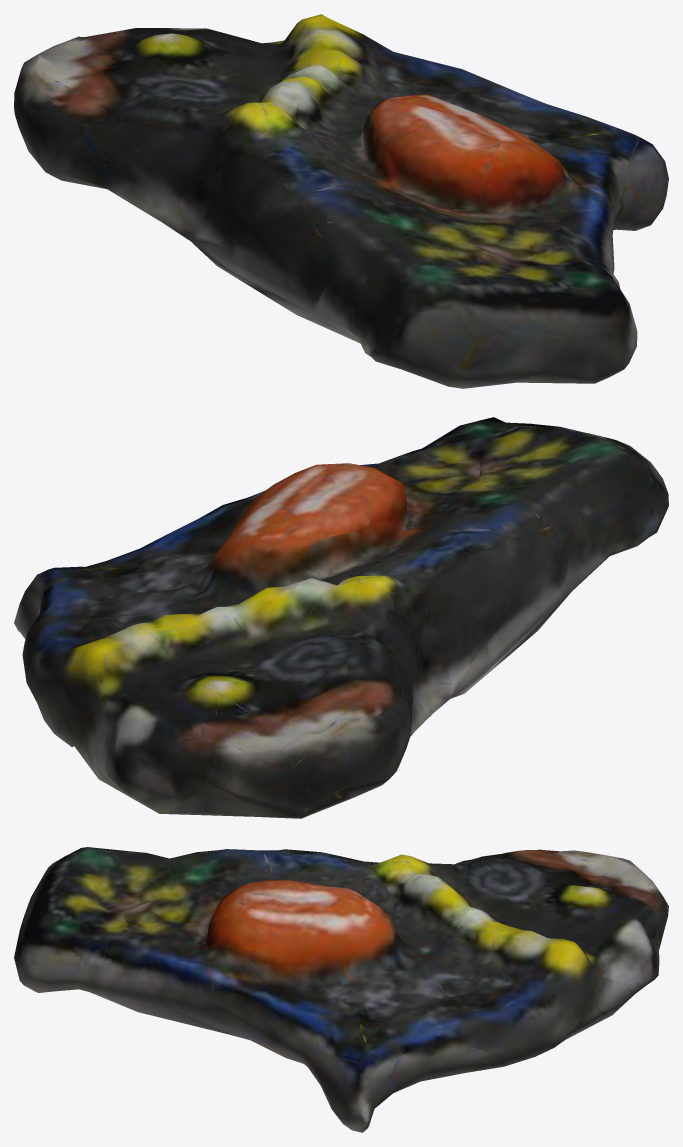
Rendered from hall.glb.
3 renders of one model, top to bottom at view 1: azimuth 30°, elevation 25°; view 2: azimuth 150°, elevation 25°; view 3: azimuth 270°, elevation 25°, orthographic. The views are drawn at different scales.
Size of the model in its own units: 0.4256 by 0.1554 by 0.6241.
Materials: 1 (1 with a texture image).
